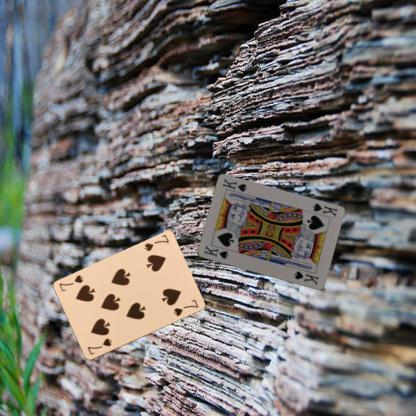7s: (141, 232, 170, 253), (85, 336, 113, 356)
Ks: (201, 243, 229, 260), (310, 201, 338, 218)
